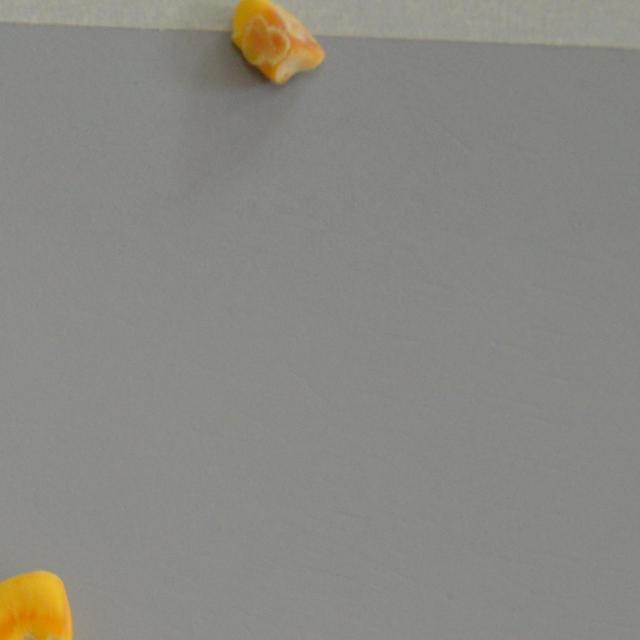dañado: (225, 0, 330, 91), (0, 568, 77, 640)
